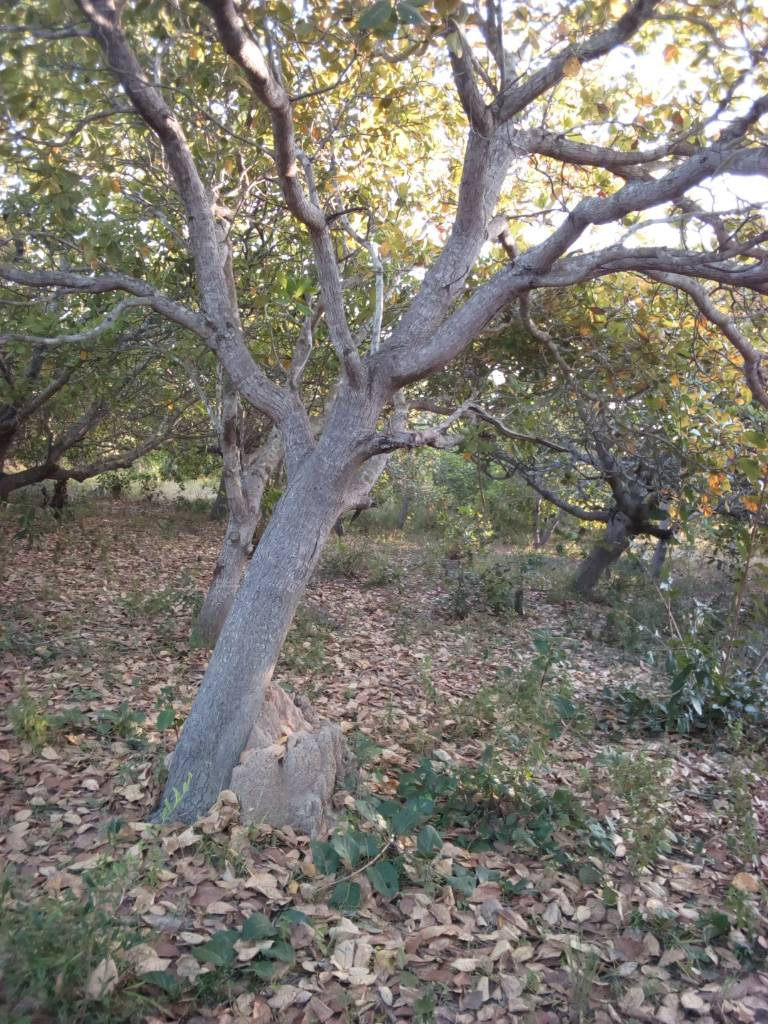Termites: (235, 689, 340, 816)
